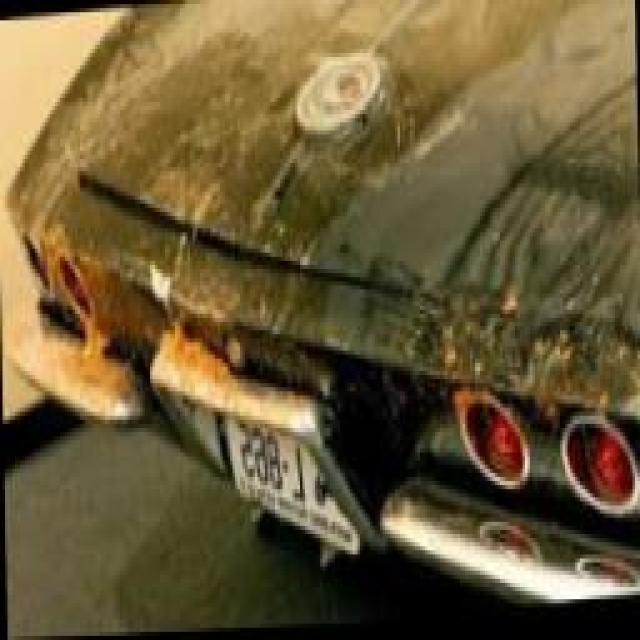replaceable: (468, 158, 640, 421), (39, 212, 263, 398)
